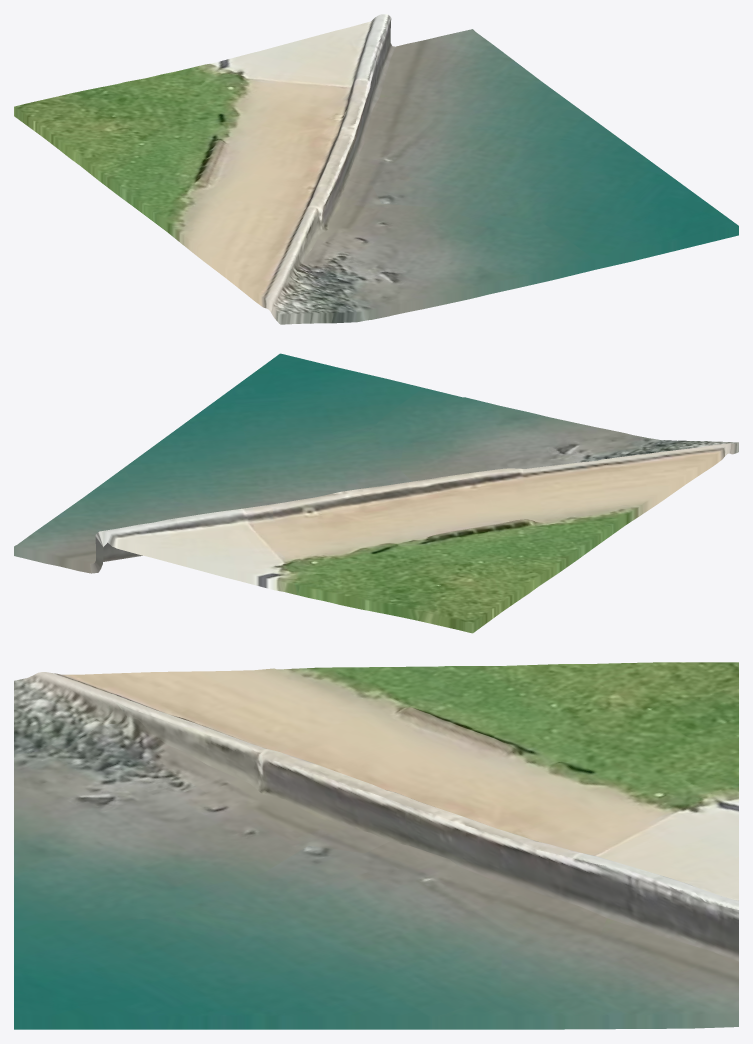
The model's file is z20-167567-405173-h0-yup-uvflip-v3-world.glb.
The picture shows the model from 3 angles, top to bottom: view 1: azimuth 30°, elevation 25°; view 2: azimuth 150°, elevation 25°; view 3: azimuth 270°, elevation 25°; orthographic projection. The views are drawn at different scales.
Size of the model in its own units: 30.16 by 3.04 by 30.32.
1 material, 1 textured.
